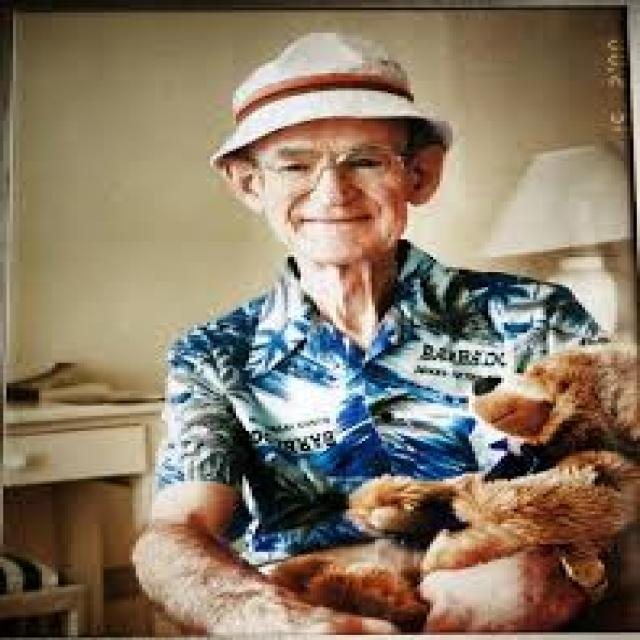hat: (213, 35, 450, 262)
